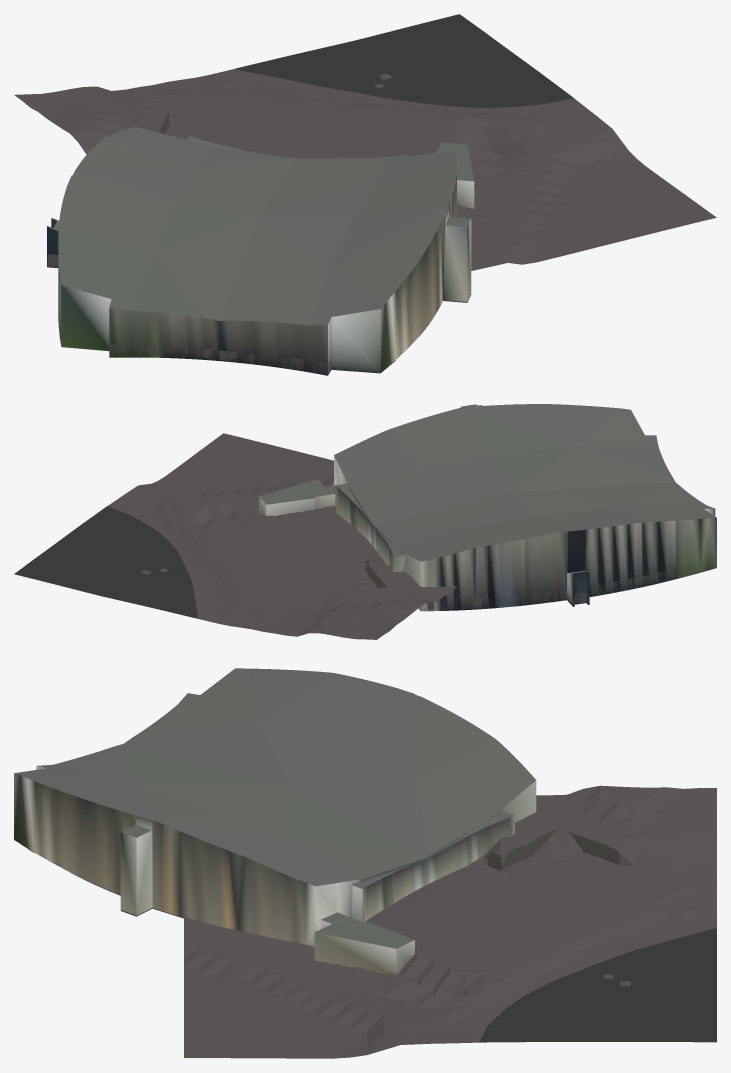
3 renders of one model, top to bottom at view 1: azimuth 30°, elevation 25°; view 2: azimuth 150°, elevation 25°; view 3: azimuth 270°, elevation 25°, orthographic. The views are drawn at different scales.
Parts seen in each view (by area): view 1: c_m13_m18; view 2: c_m13_m18; view 3: c_m13_m18.
Boxes of the visible parts, left/top/right/bottom form: c_m13_m18: left=14, top=14, right=716, bottom=375; c_m13_m18: left=14, top=404, right=716, bottom=639; c_m13_m18: left=14, top=668, right=716, bottom=1058.
Size of the model in its own units: 181 by 25.51 by 169.
